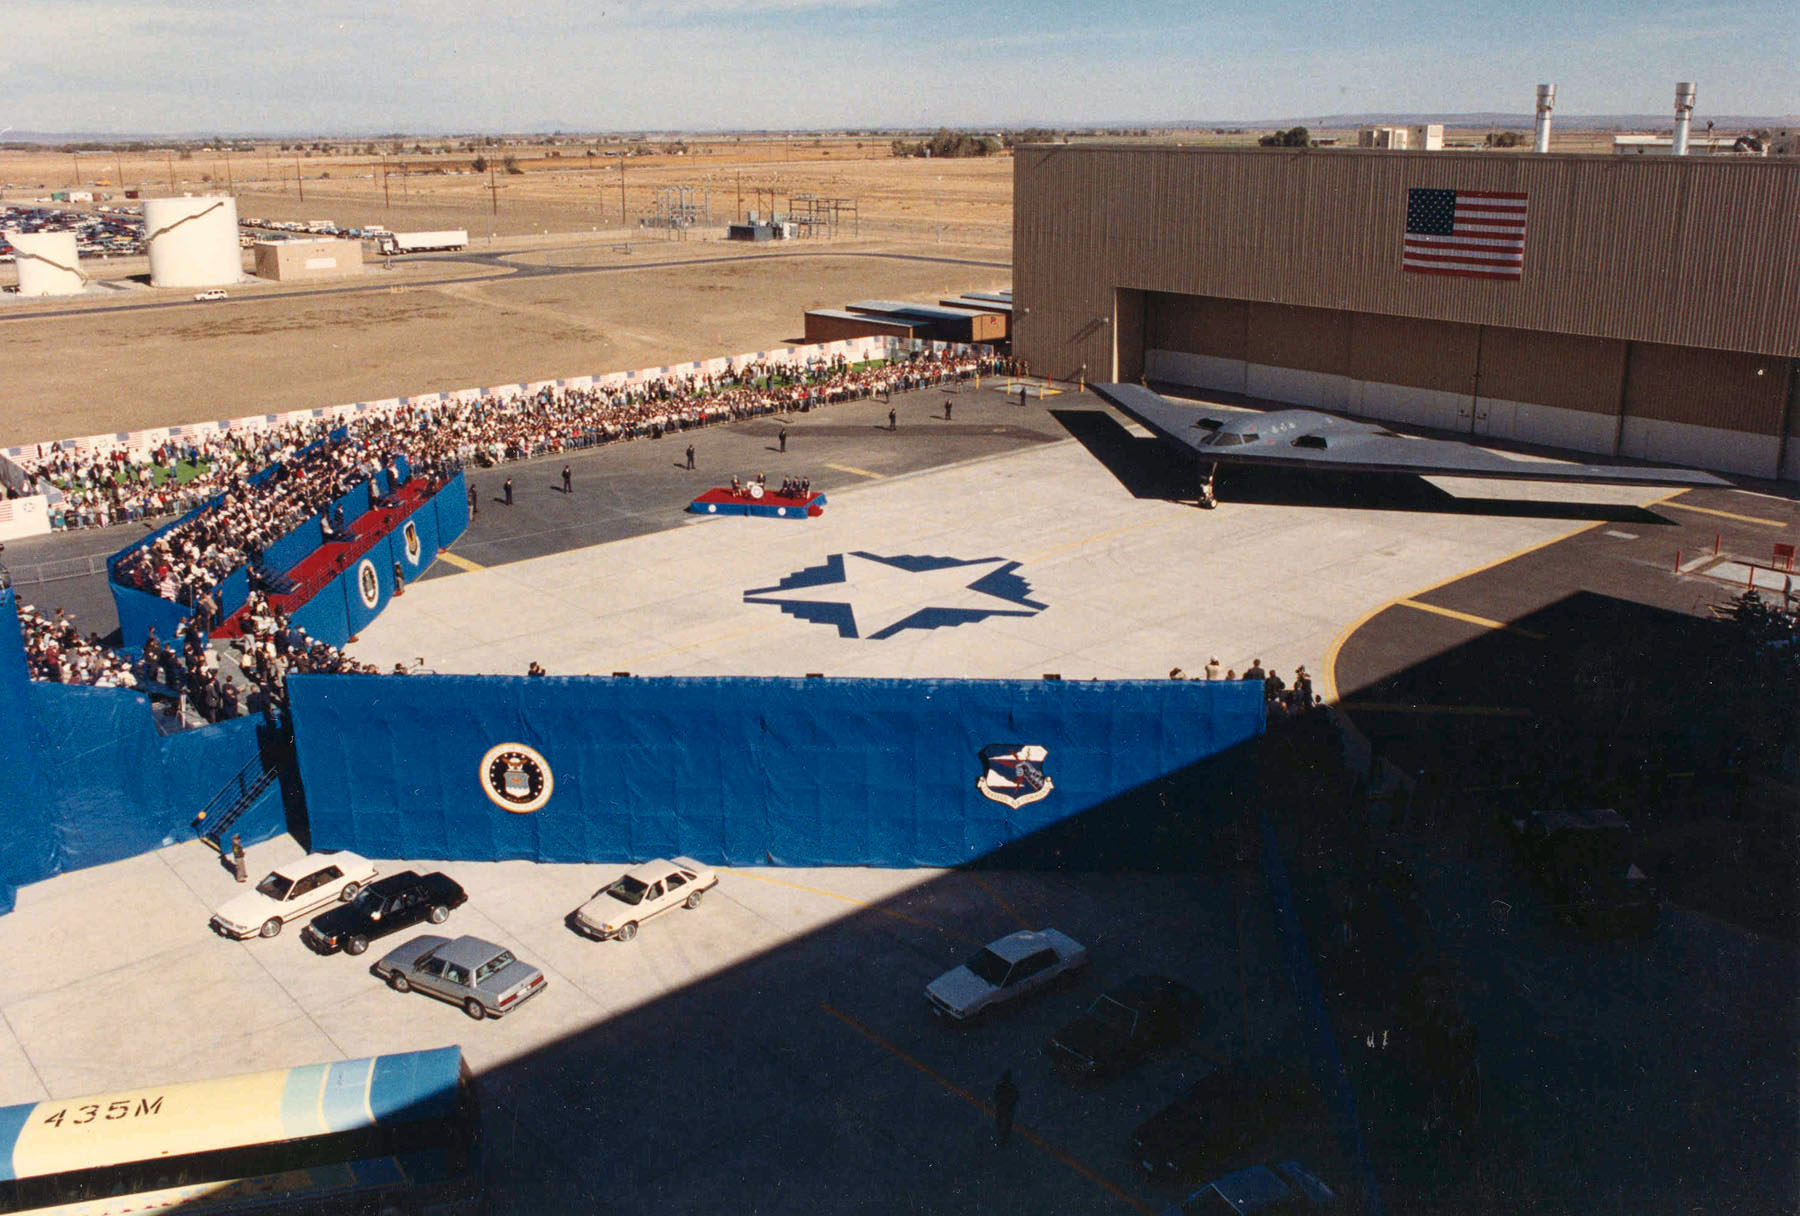B2: (1082, 381, 1740, 510)
